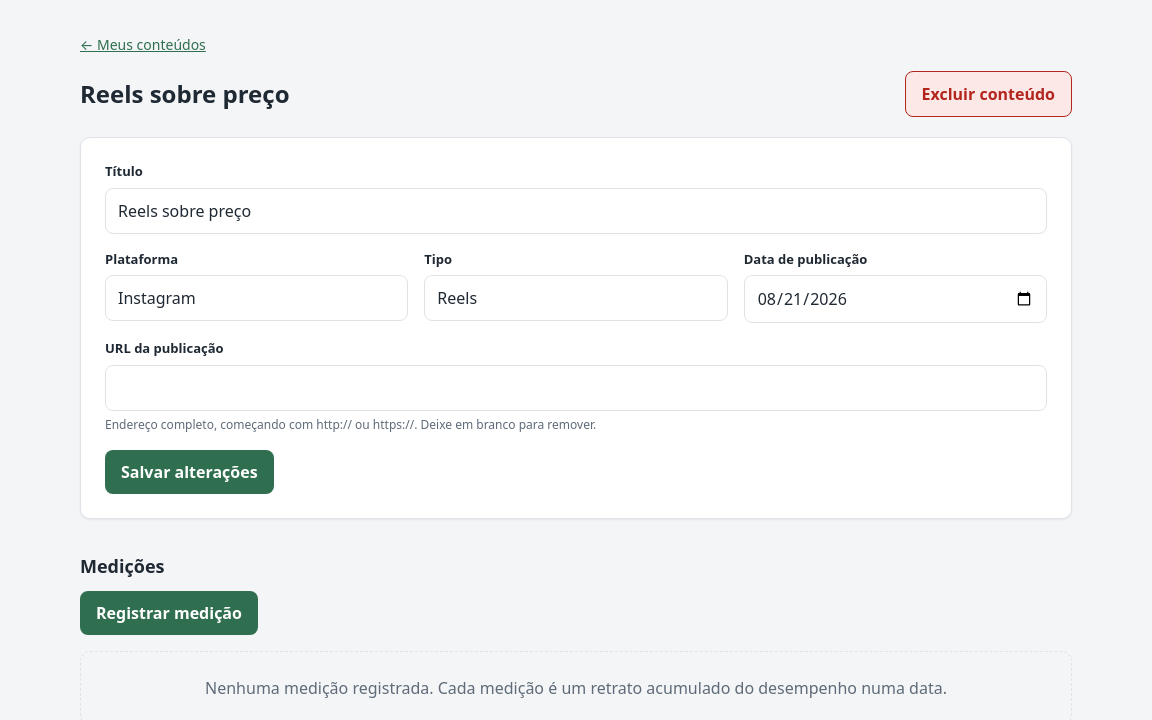
it: ConteudoDetalhe › confirma na tela que o conteúdo foi salvo
Click the button "Salvar alterações" at (189, 472), box [105,450,274,494]
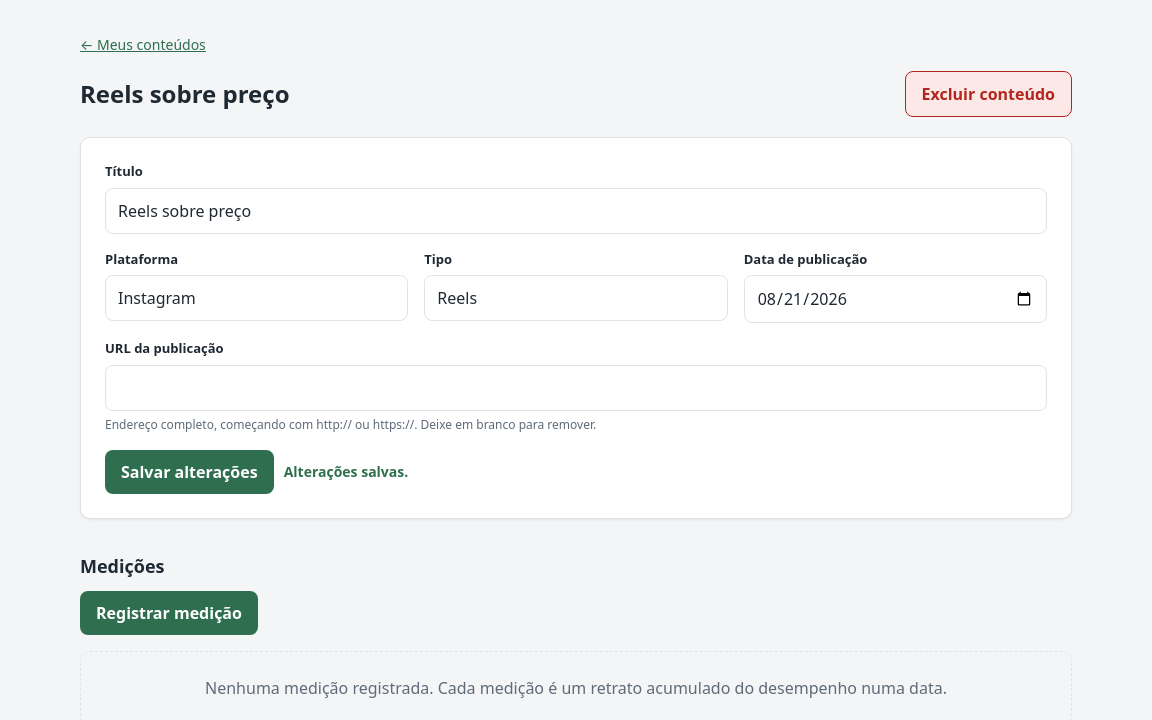
Expected: the message reads "Alterações salvas.", [284,462,408,481]
# E o aviso sai assim que o texto na tela deixa de ser o gravado.
Type "!" into the field labelled "Título" at (576, 210), box [105,188,1047,234]
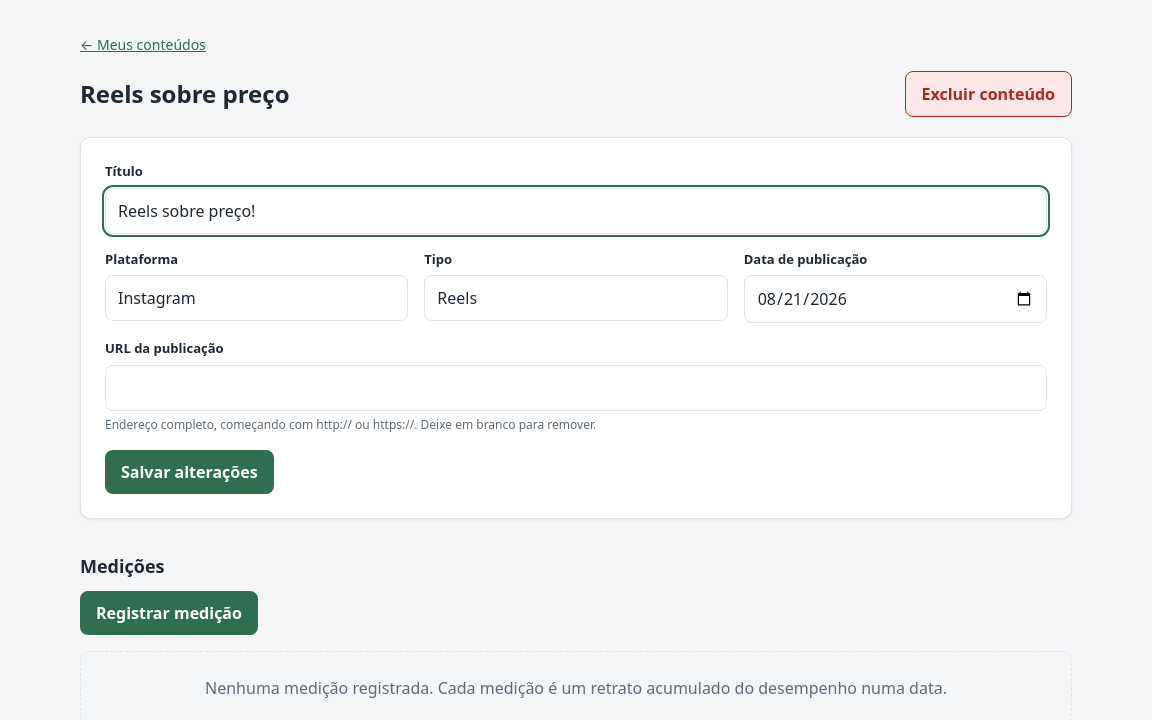
Expected: the message "Alterações salvas." is gone
